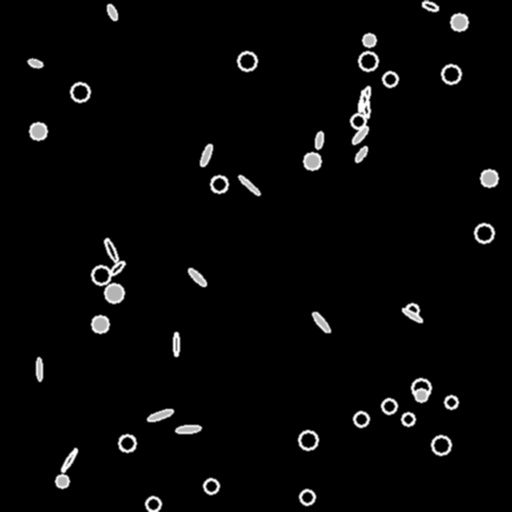pseudomonas: (238, 174, 260, 196), (311, 310, 331, 334), (356, 85, 372, 113), (60, 448, 78, 472), (103, 237, 119, 263), (187, 267, 207, 287), (147, 408, 173, 422), (351, 125, 369, 145), (401, 307, 423, 323), (199, 143, 213, 167), (108, 260, 126, 276), (353, 145, 369, 163), (360, 90, 370, 118), (176, 424, 200, 434), (106, 3, 118, 21), (421, 0, 439, 12), (314, 131, 324, 149), (27, 58, 43, 68), (173, 332, 179, 356), (36, 358, 42, 380)
synechocystis: (105, 284, 123, 302), (412, 379, 430, 397), (71, 83, 89, 101), (238, 52, 256, 70), (299, 431, 317, 449), (92, 266, 110, 284), (475, 224, 493, 242), (432, 436, 450, 454), (359, 52, 377, 70), (442, 65, 460, 83), (304, 153, 320, 169), (451, 14, 467, 30), (211, 176, 227, 192), (92, 316, 108, 332), (30, 123, 46, 139), (481, 170, 497, 186), (119, 435, 135, 451), (300, 490, 314, 504), (146, 497, 160, 511), (382, 399, 396, 413), (383, 72, 397, 86), (354, 412, 368, 426), (204, 479, 218, 493), (351, 114, 365, 128), (406, 304, 418, 316), (415, 389, 427, 401), (363, 34, 375, 46), (402, 413, 414, 425), (56, 475, 68, 487), (445, 396, 457, 408)
